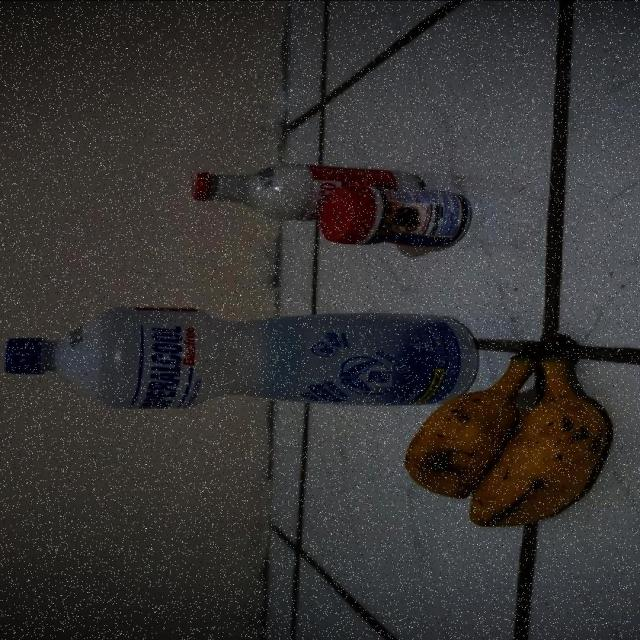AlcoholBottle: (5, 306, 404, 406)
Banana: (410, 338, 610, 528)
CoconutMilk: (188, 155, 324, 220)
Yeast: (327, 189, 469, 247)
